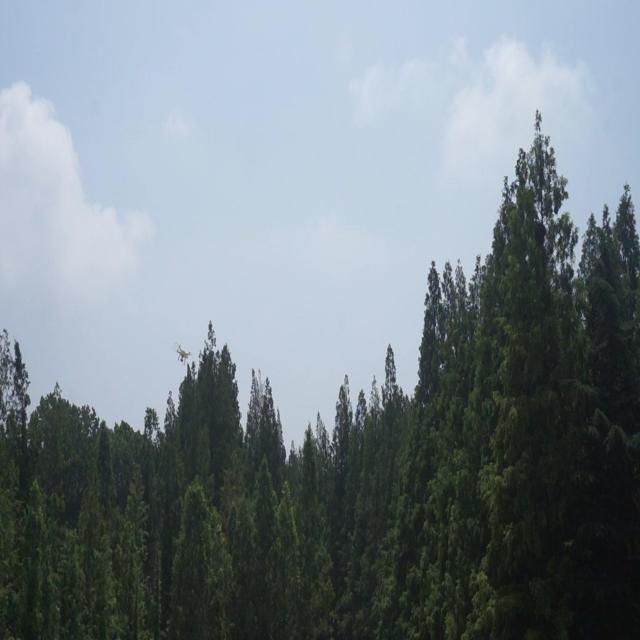drone: (171, 341, 192, 365)
